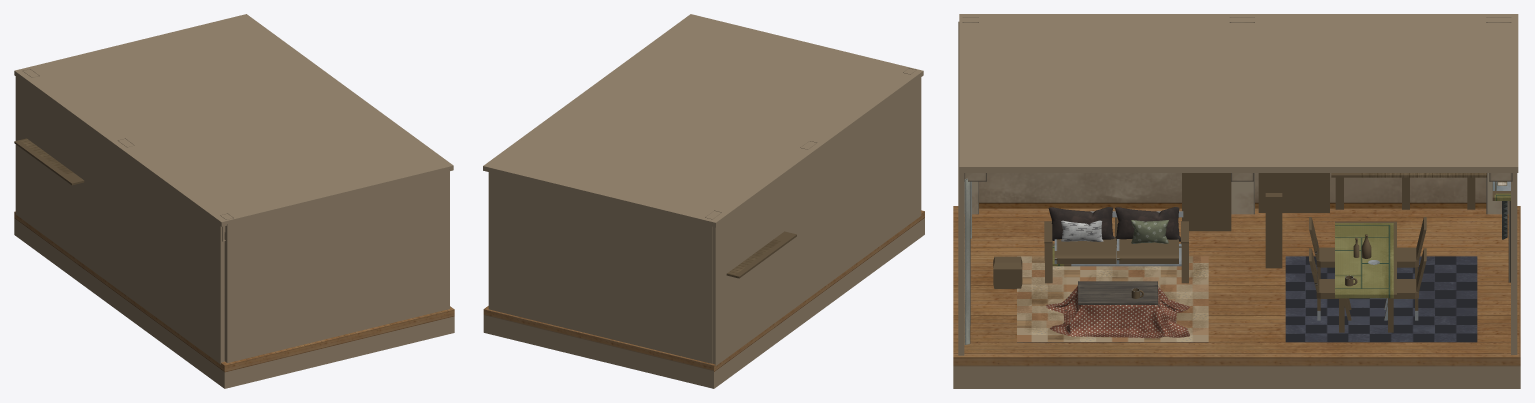
File: _Home_T04.fbx
3 renders of one model, left to right at view 1: azimuth 30°, elevation 25°; view 2: azimuth 150°, elevation 25°; view 3: azimuth 270°, elevation 25°, orthographic. The views are drawn at different scales.
Parts seen in each view (by area): view 1: Cube.007, Cube.048, Cube.049, Cube.055, Cube.131; view 2: Cube.007, Cube.008, Cube.049, Cube.055, Cube.131; view 3: Cube.007, Cube.055, Plane.006, Cube.049, Plane.001, Cube.106, Cube.123, Cube.107, Cube.095, Cube.121, Cube.048, Cube.111 (+18 smaller).
Boxes of the visible parts, x1,y1,x2,y2 form: Cube.007: [14, 14, 453, 226]; Cube.048: [225, 170, 449, 362]; Cube.049: [15, 76, 224, 364]; Cube.055: [14, 211, 454, 388]; Cube.131: [14, 138, 84, 185]; Cube.007: [483, 14, 923, 227]; Cube.008: [488, 172, 712, 363]; Cube.049: [712, 77, 921, 365]; Cube.055: [483, 210, 924, 388]; Cube.131: [726, 231, 796, 278]; Cube.007: [959, 14, 1518, 172]; Cube.055: [953, 206, 1520, 388]; Plane.006: [1285, 256, 1477, 342]; Cube.049: [979, 173, 1486, 208]; Plane.001: [1017, 256, 1208, 342]; Cube.106: [1335, 221, 1396, 332]; Cube.123: [1046, 285, 1189, 338]; Cube.107: [1182, 173, 1231, 231]; Cube.095: [1258, 173, 1329, 212]; Cube.121: [1078, 281, 1157, 304]; Cube.048: [958, 21, 964, 355]; Cube.111: [1054, 236, 1116, 263].
Bounding box in the file's own units: 282 × 183 × 421.
